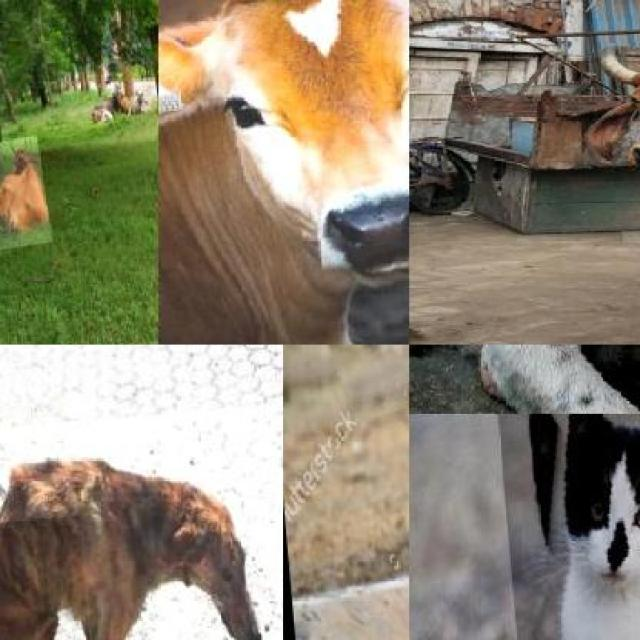buffalo: (291, 345, 409, 412)
cat: (495, 414, 640, 640)
cow: (158, 0, 410, 345), (0, 133, 52, 249)
dog: (0, 404, 283, 640), (409, 344, 640, 414)
injured: (0, 515, 98, 639)
